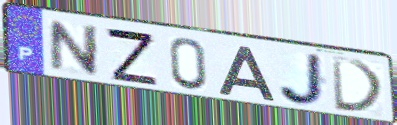0: (167, 37, 209, 92)
A: (216, 44, 278, 102)
D: (329, 54, 388, 116)
J: (276, 52, 329, 108)
N: (48, 19, 101, 79)
Z: (103, 25, 161, 88)
